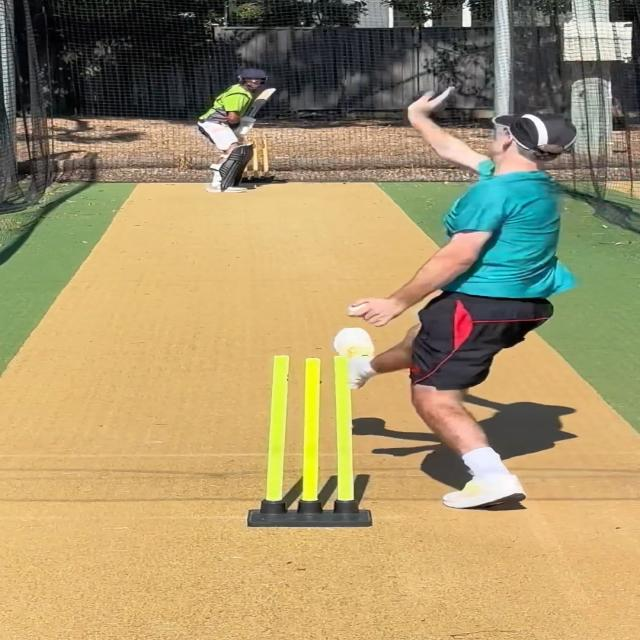stump: (248, 355, 371, 526)
